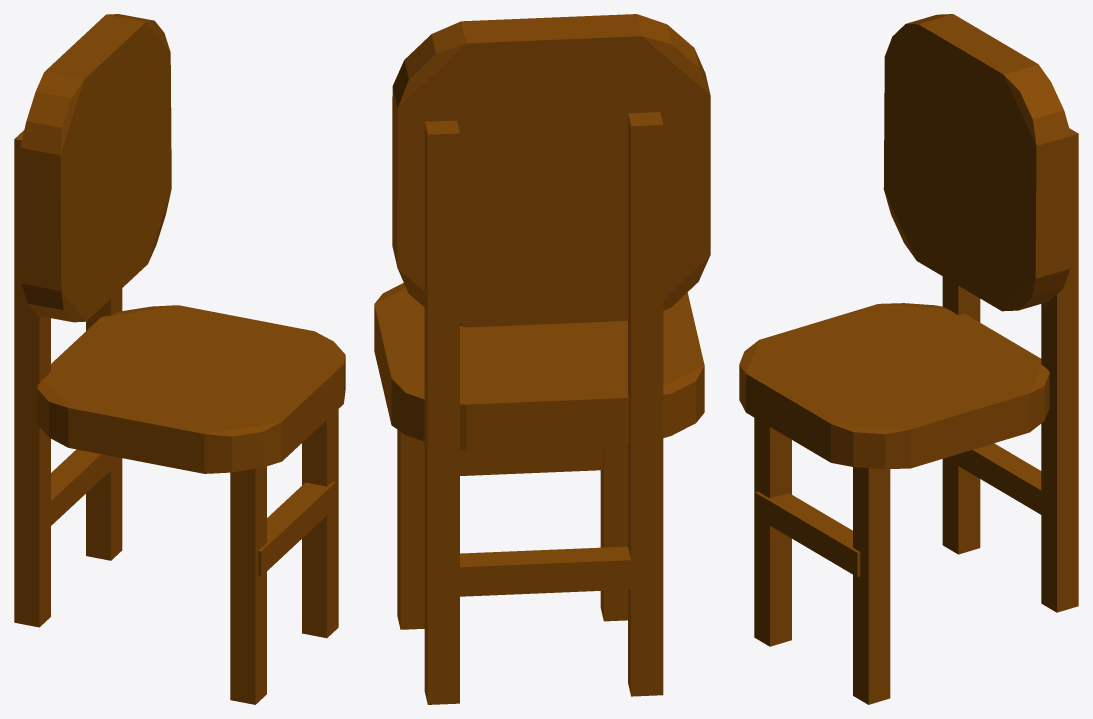
Rendered from kursi.glb.
3 renders of one model, left to right at view 1: azimuth 30°, elevation 25°; view 2: azimuth 150°, elevation 25°; view 3: azimuth 270°, elevation 25°, orthographic. The views are drawn at different scales.
Visible parts, largest first — view 1: Cube.096; view 2: Cube.096; view 3: Cube.096.
Boxes of the visible parts, x1,y1,x2,y2 form: Cube.096: (14, 14, 345, 704); Cube.096: (374, 14, 710, 704); Cube.096: (739, 14, 1078, 704).
Bounding box in the file's own units: 3.36 × 6.34 × 3.42.
